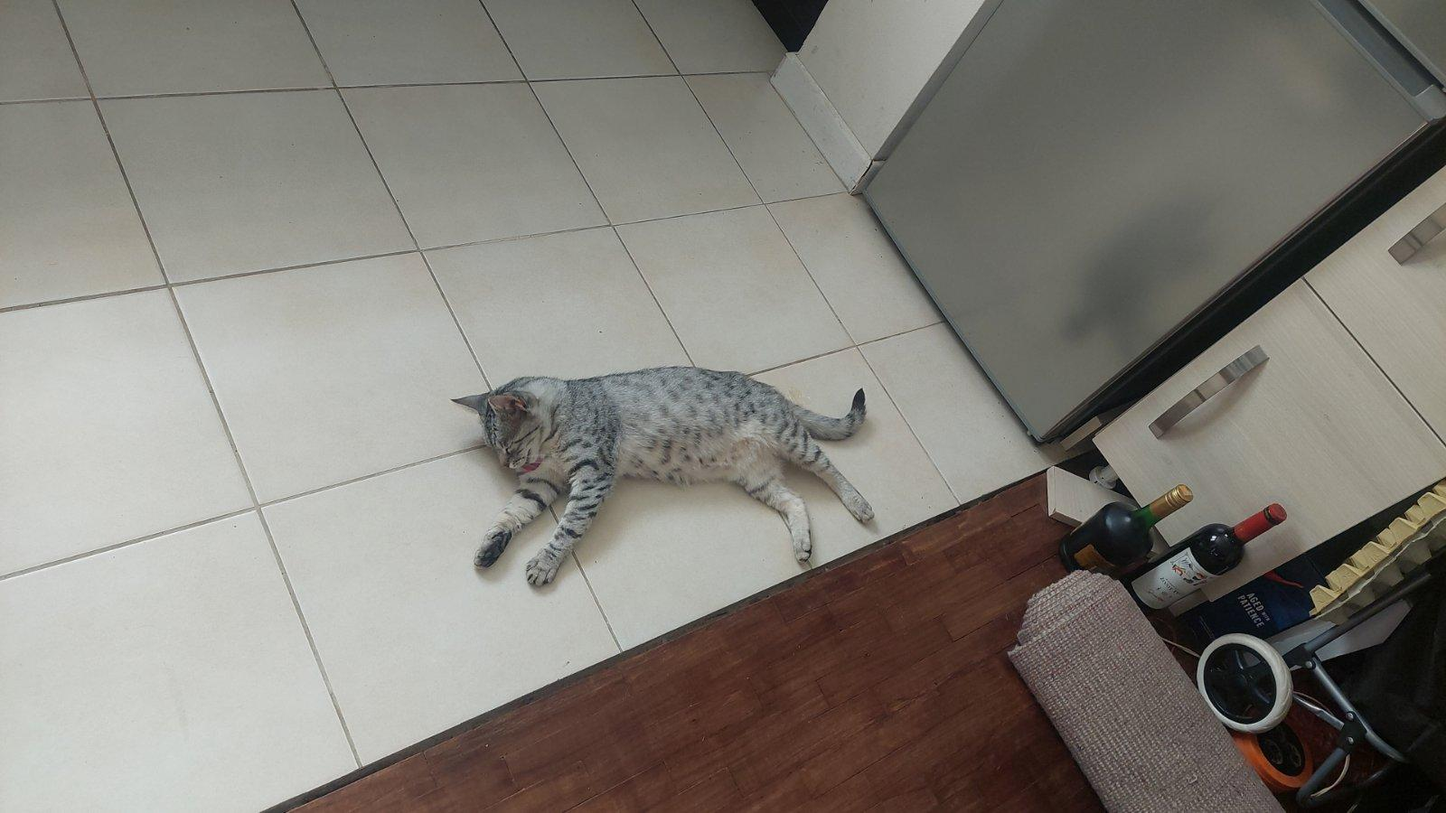macka: (450, 364, 877, 588)
